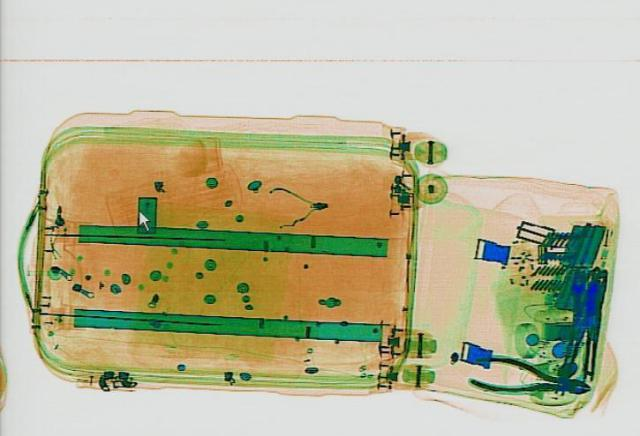Pliers: (462, 351, 596, 407)
